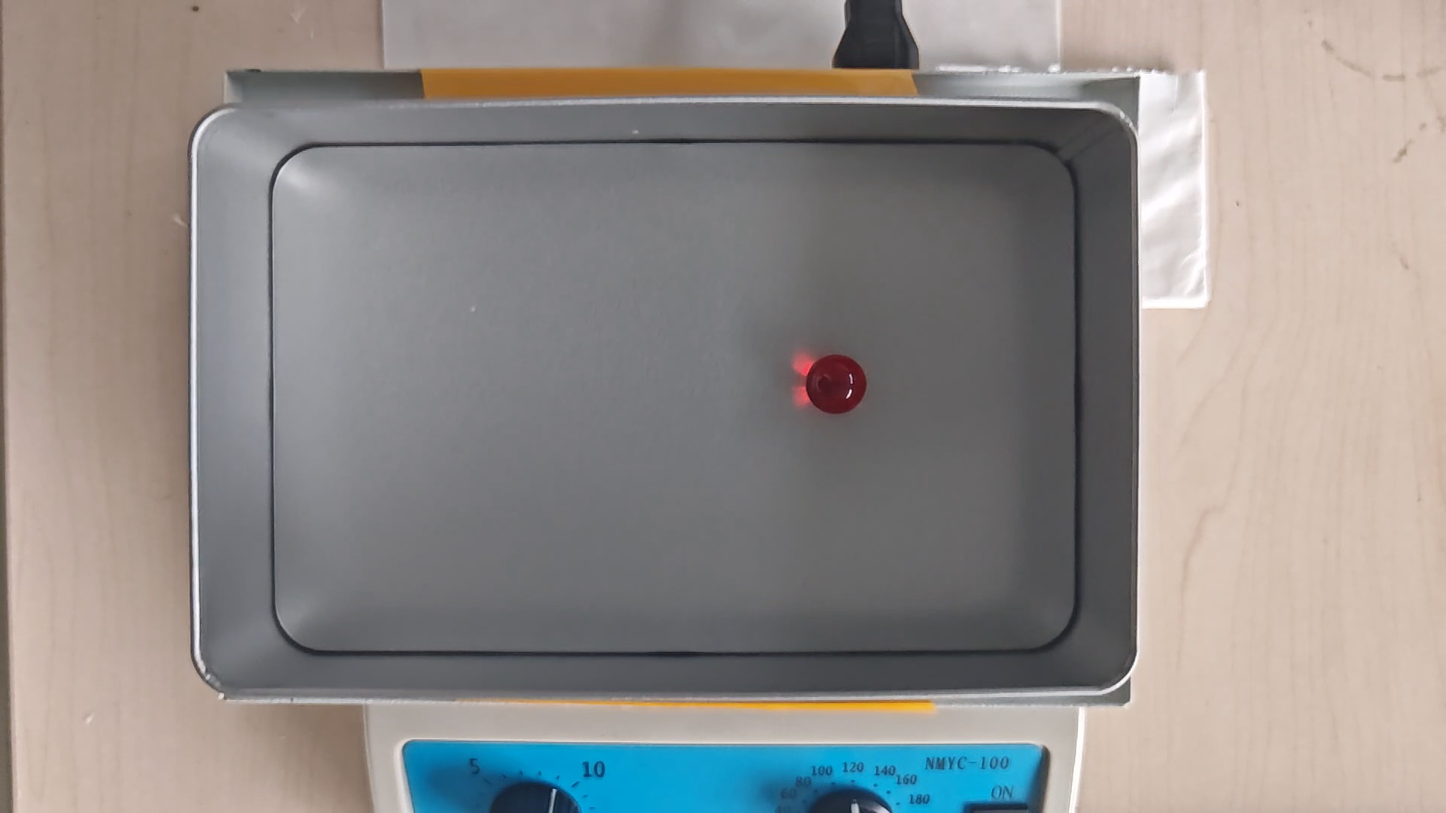ball: (806, 354, 867, 416)
container: (270, 144, 1081, 652)
